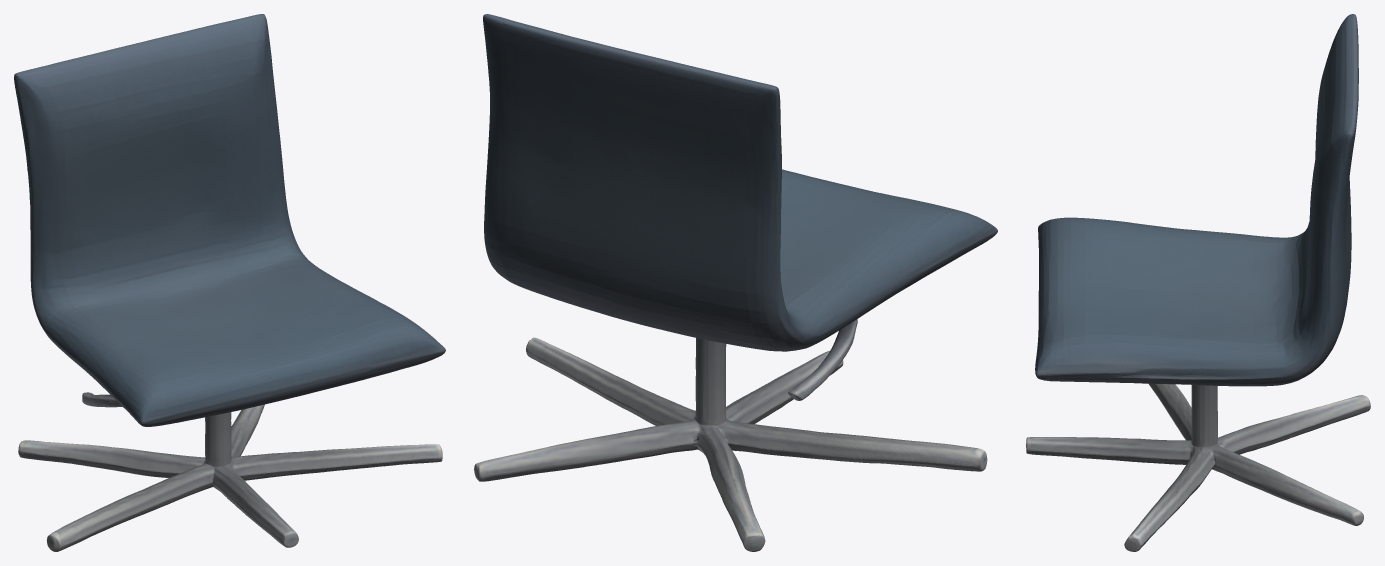
Rendered from sam3d.glb.
3 views of the same model, side by side, from view 1: azimuth 30°, elevation 25°; view 2: azimuth 150°, elevation 25°; view 3: azimuth 270°, elevation 25° (orthographic). The views are drawn at different scales.
Visible parts, largest first — view 1: world; view 2: world; view 3: world.
Boxes of the visible parts, x1=… form: world: x1=14, y1=14, x2=445, y2=551; world: x1=474, y1=14, x2=997, y2=551; world: x1=1026, y1=14, x2=1370, y2=551.
Size of the model in its own units: 0.9951 by 0.9613 by 0.7638.
